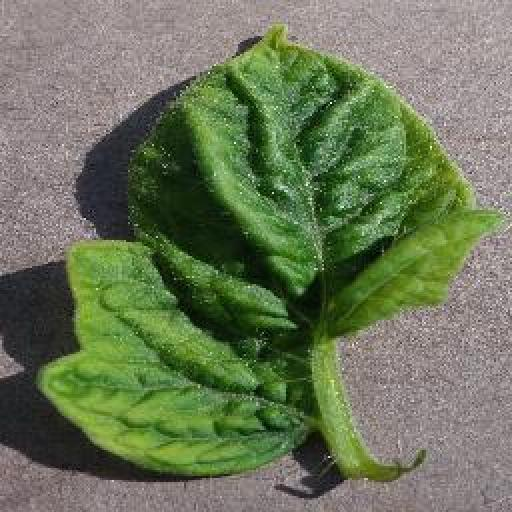Yellow Leaf Curl Virus: (34, 25, 504, 475)
